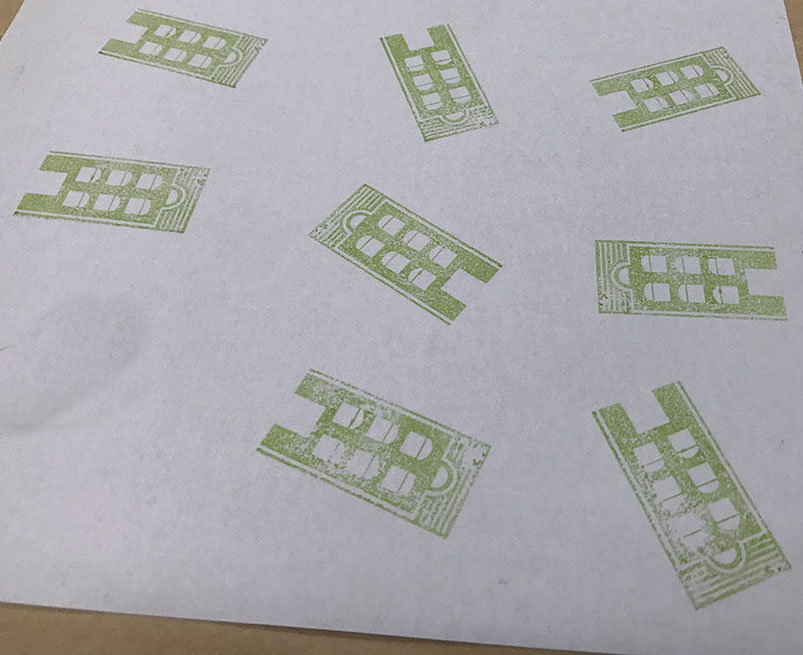build: (577, 375, 801, 616), (251, 361, 497, 556), (290, 173, 514, 336), (580, 225, 803, 347), (4, 129, 229, 247), (573, 29, 776, 146), (370, 13, 515, 148), (94, 1, 266, 106)
